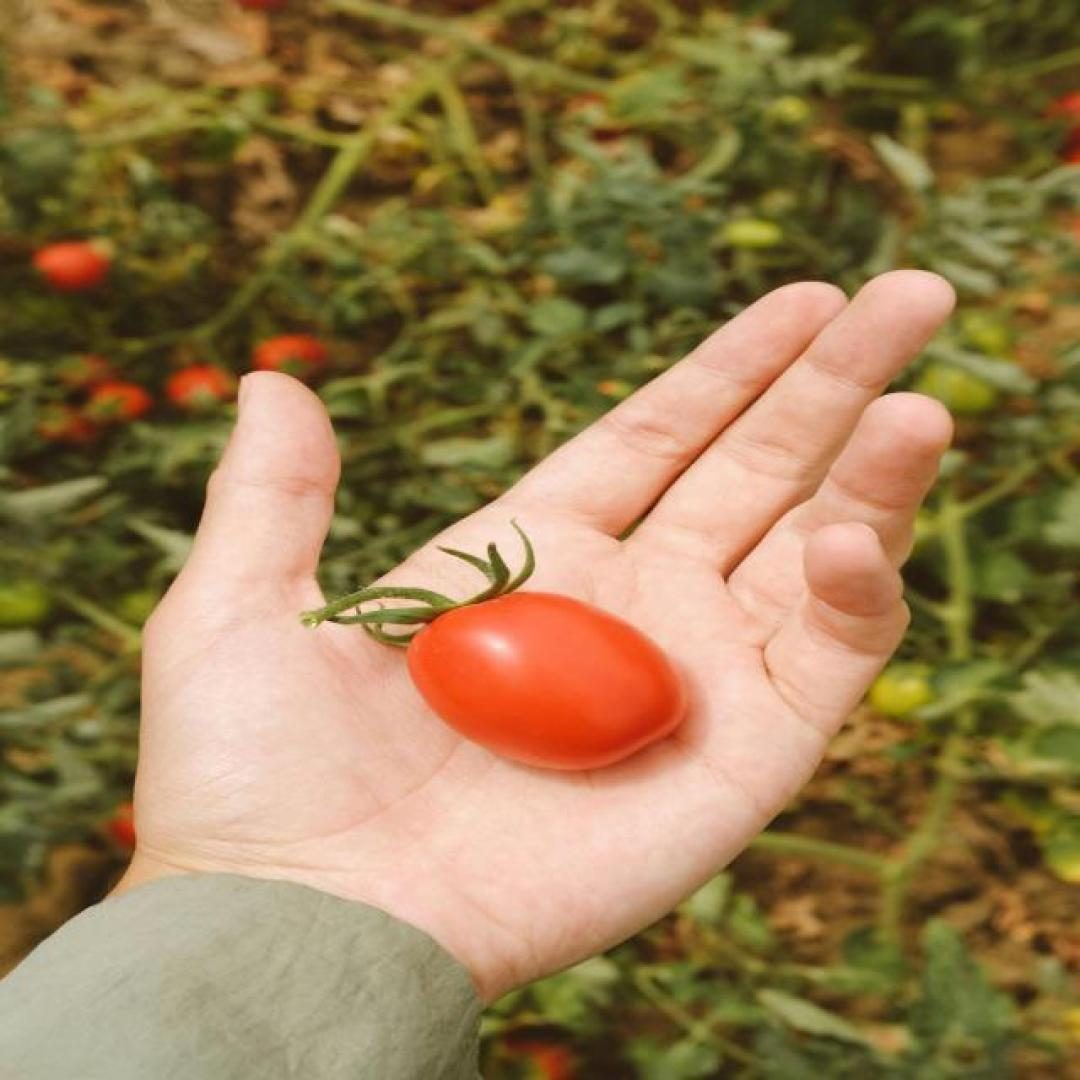matang: (404, 592, 688, 772)
